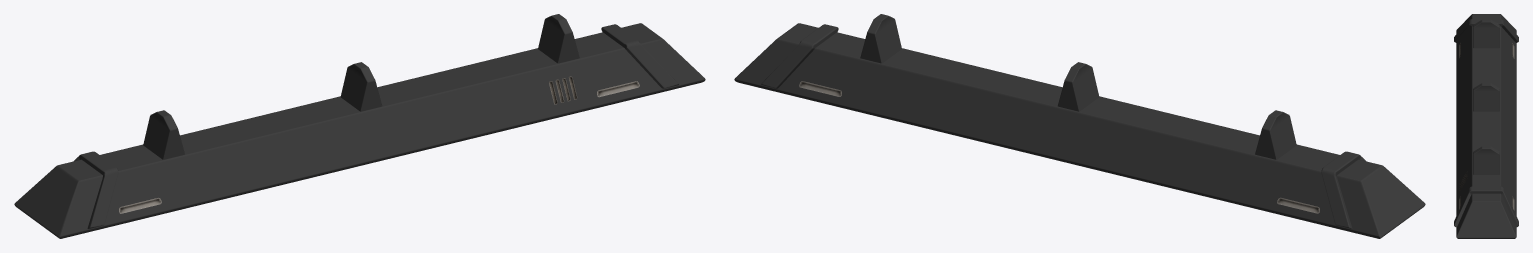
Rendered from SM_Lamp_02.FBX.
3 renders of one model, left to right at view 1: azimuth 30°, elevation 25°; view 2: azimuth 150°, elevation 25°; view 3: azimuth 270°, elevation 25°, orthographic. The views are drawn at different scales.
Parts seen in each view (by area): view 1: SM_Lamp_02_LOD0; view 2: SM_Lamp_02_LOD0; view 3: SM_Lamp_02_LOD0.
Part boxes in pixels (<box>): SM_Lamp_02_LOD0: <box>14,14,705,238</box>; SM_Lamp_02_LOD0: <box>734,14,1425,238</box>; SM_Lamp_02_LOD0: <box>1454,14,1518,238</box>.
Size of what is drawn, in the model's own units: 142 by 18.7 by 16.64.
